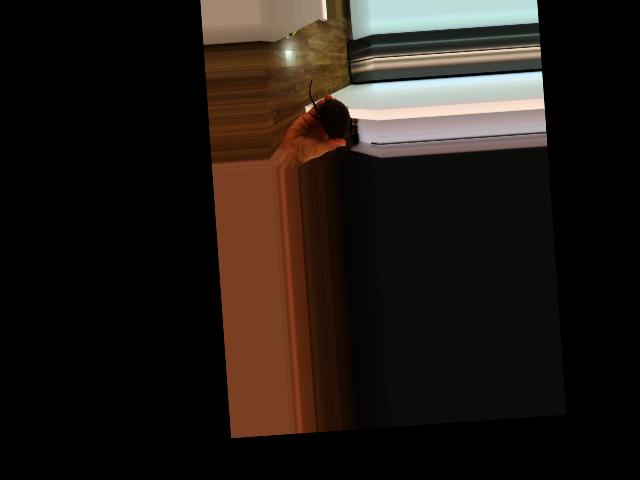beet: (308, 76, 353, 139)
